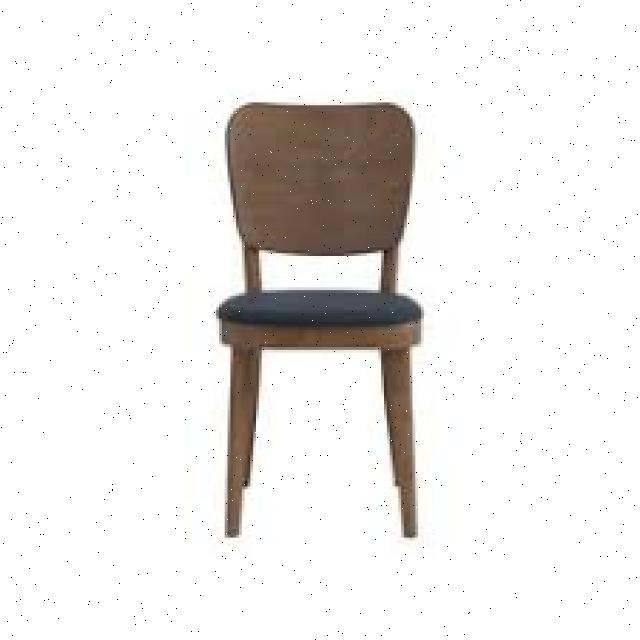bottle: (211, 87, 430, 547)
